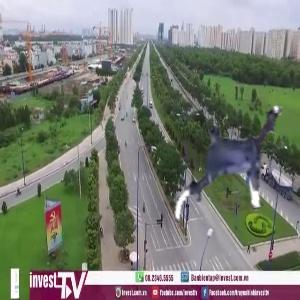drone: (160, 104, 299, 243)
